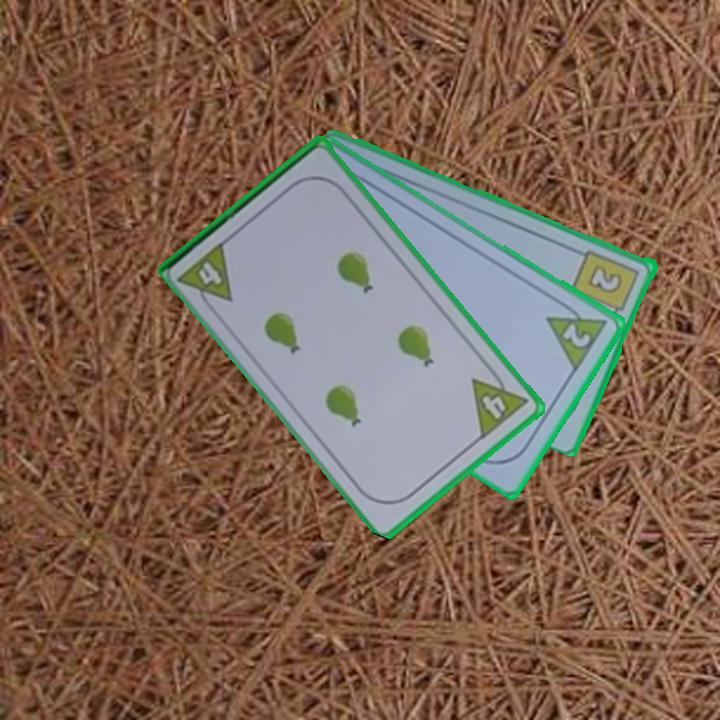2b: (569, 246, 643, 322)
2p: (543, 295, 611, 374)
4p: (468, 362, 531, 442), (175, 237, 236, 316)
